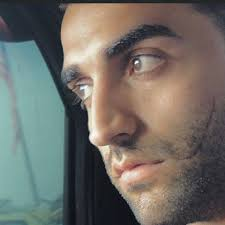middle_eastern_male: (61, 12, 222, 206)
